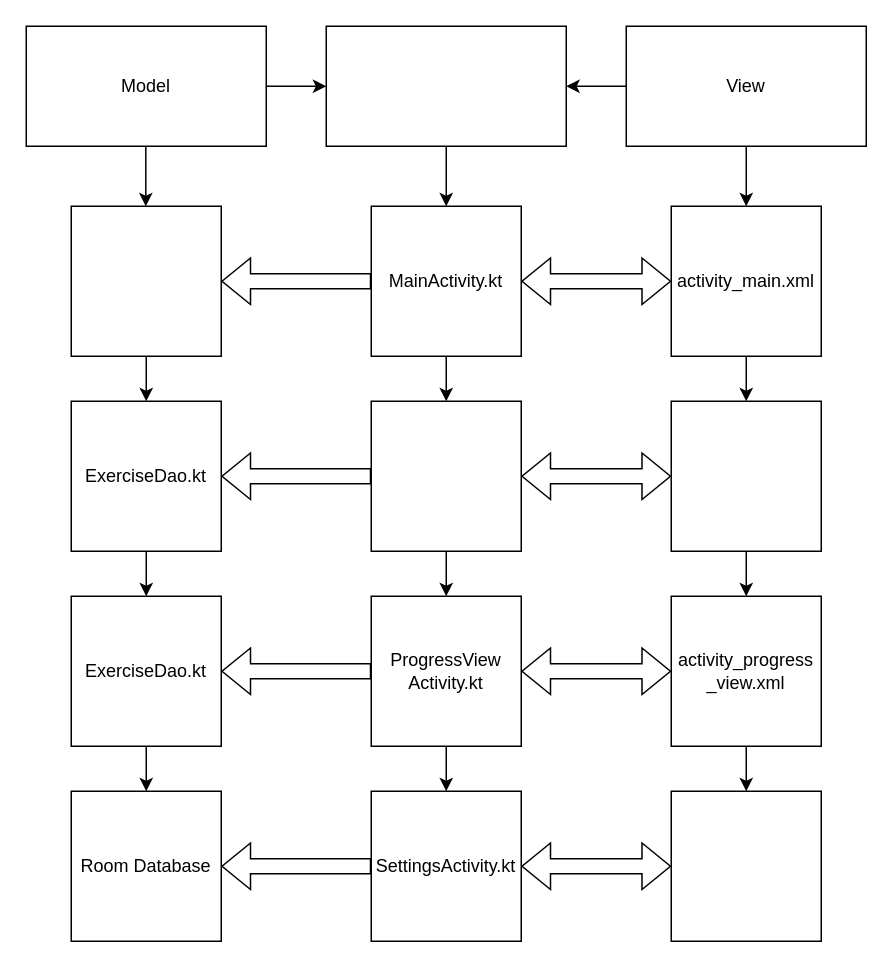
Some shapes in this 893 by 968 pixel diagram are drawn without their labels. Each missing label, with the centre of its shape:
activity_ settings.xml: the point at 745,865
activity_data_ input.xml: the point at 745,475
Controller: the point at 445,85
DataInput Activity.kt: the point at 445,475
ExerciseEntry.kt: the point at 145,280
